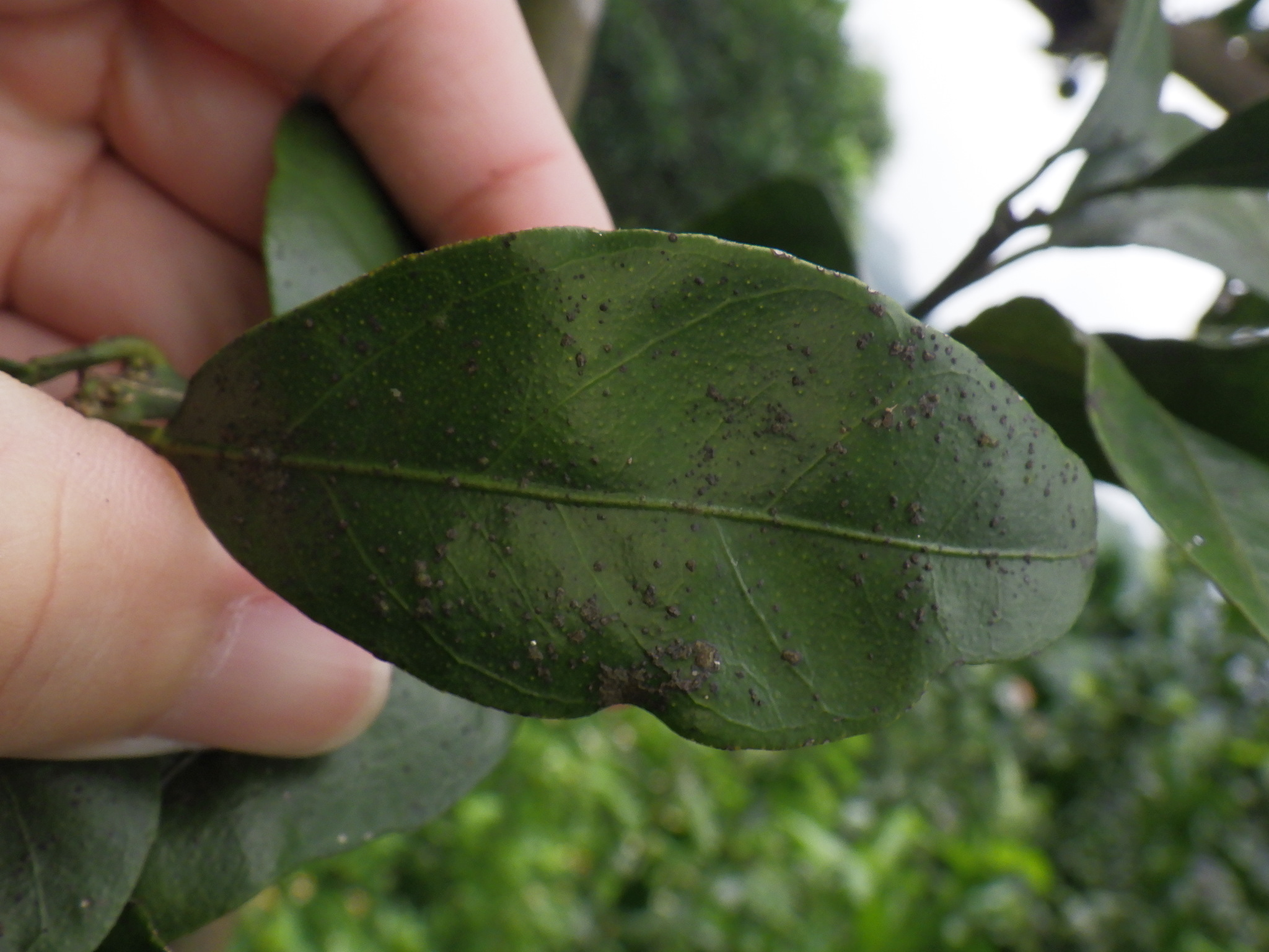Black_Spot: (154, 231, 1095, 747)
